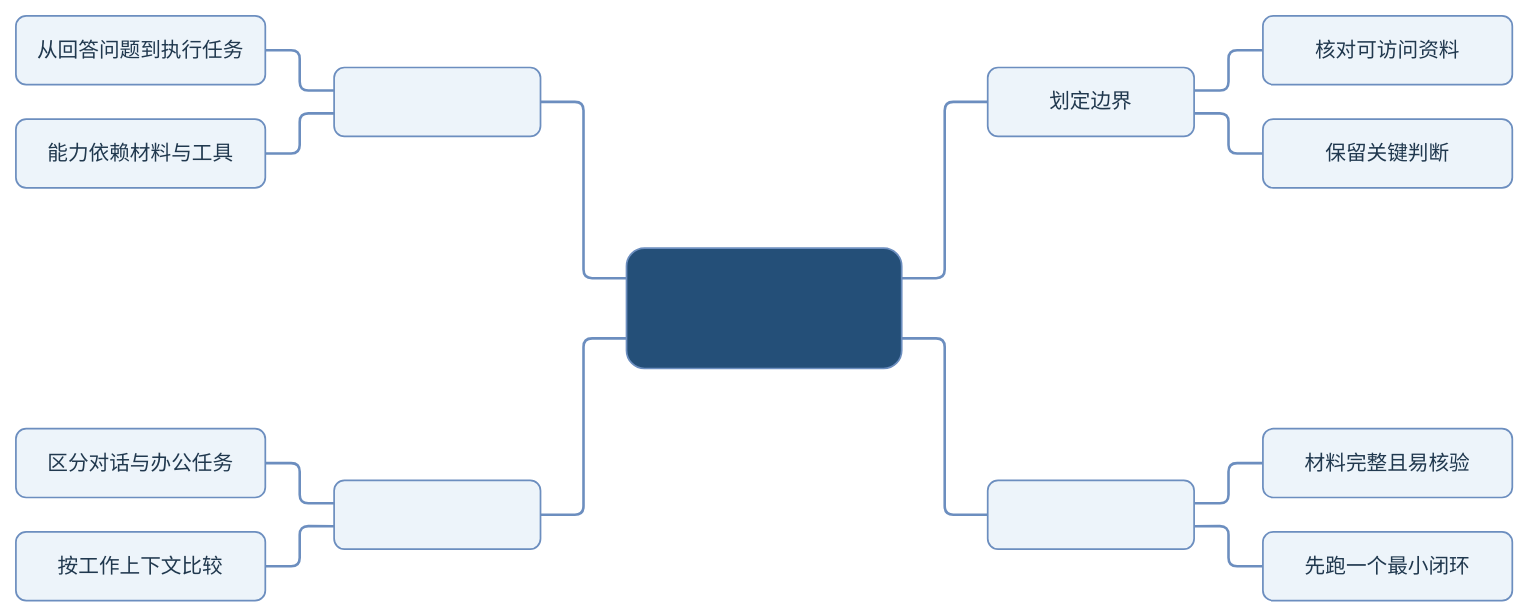
The diagram is 1527 pixels wide and 616 high, and some of its shapes have lost their labels. Here are the shapes that lost their labels. From the top down, the centre of each, then its label:
the point at 437,101: 理解变化
the point at 763,308: 第1章 认识豆包工作
the point at 437,514: 辨别定位
the point at 1090,514: 选择试点
